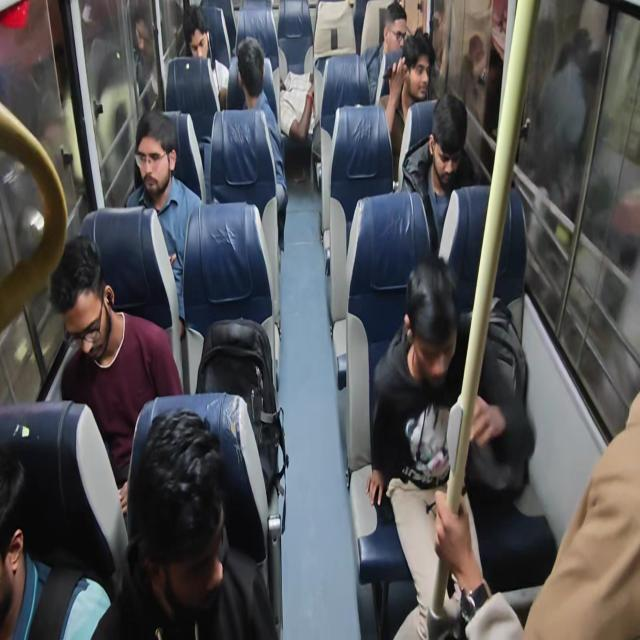person: (125, 453, 217, 640), (0, 414, 60, 639), (62, 244, 138, 390), (402, 258, 459, 390), (131, 108, 178, 184), (231, 36, 272, 114), (402, 31, 439, 117), (432, 102, 464, 187), (281, 53, 310, 129), (186, 15, 218, 76), (385, 0, 408, 56)
